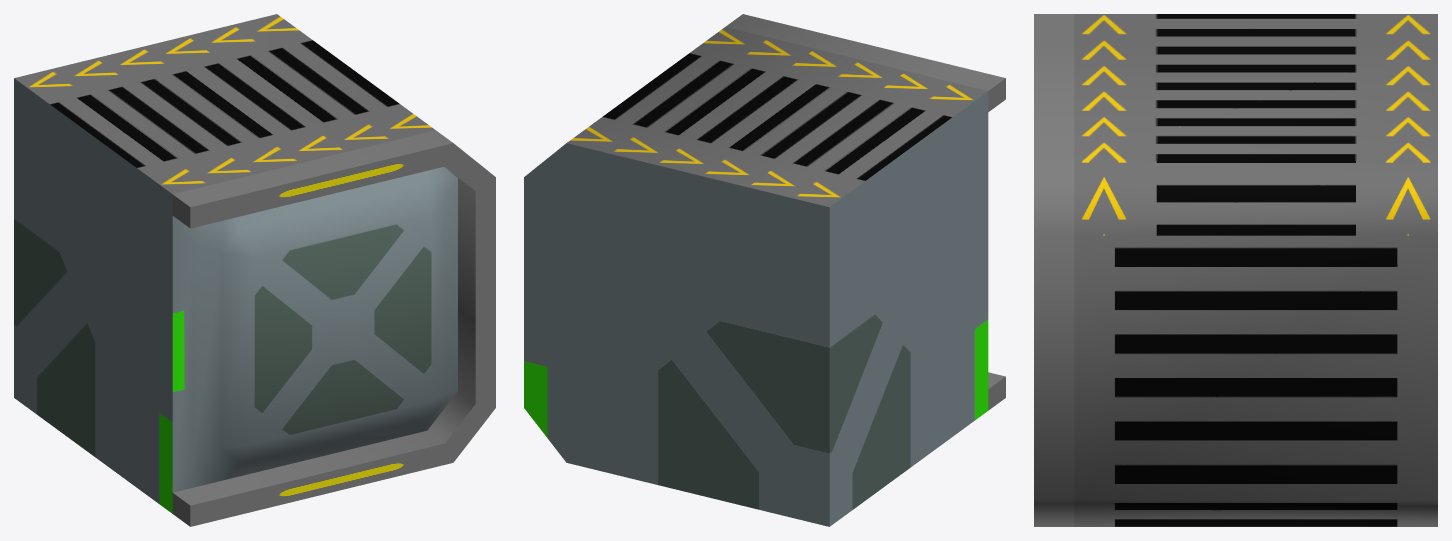
Rendered from UModelLeft.fbx.
3 renders of one model, left to right at view 1: azimuth 30°, elevation 25°; view 2: azimuth 150°, elevation 25°; view 3: azimuth 270°, elevation 25°, orthographic. The views are drawn at different scales.
Parts seen in each view (by area): view 1: geo1; view 2: geo1; view 3: geo1.
Boxes of the visible parts, x1,y1,x2,y2 form: geo1: [14, 14, 495, 526]; geo1: [524, 14, 1005, 526]; geo1: [1034, 14, 1437, 526].
Bounding box in the file's own units: 3 × 3 × 3.
